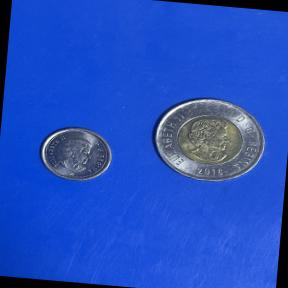coin: (143, 88, 278, 194), (31, 119, 120, 190)
